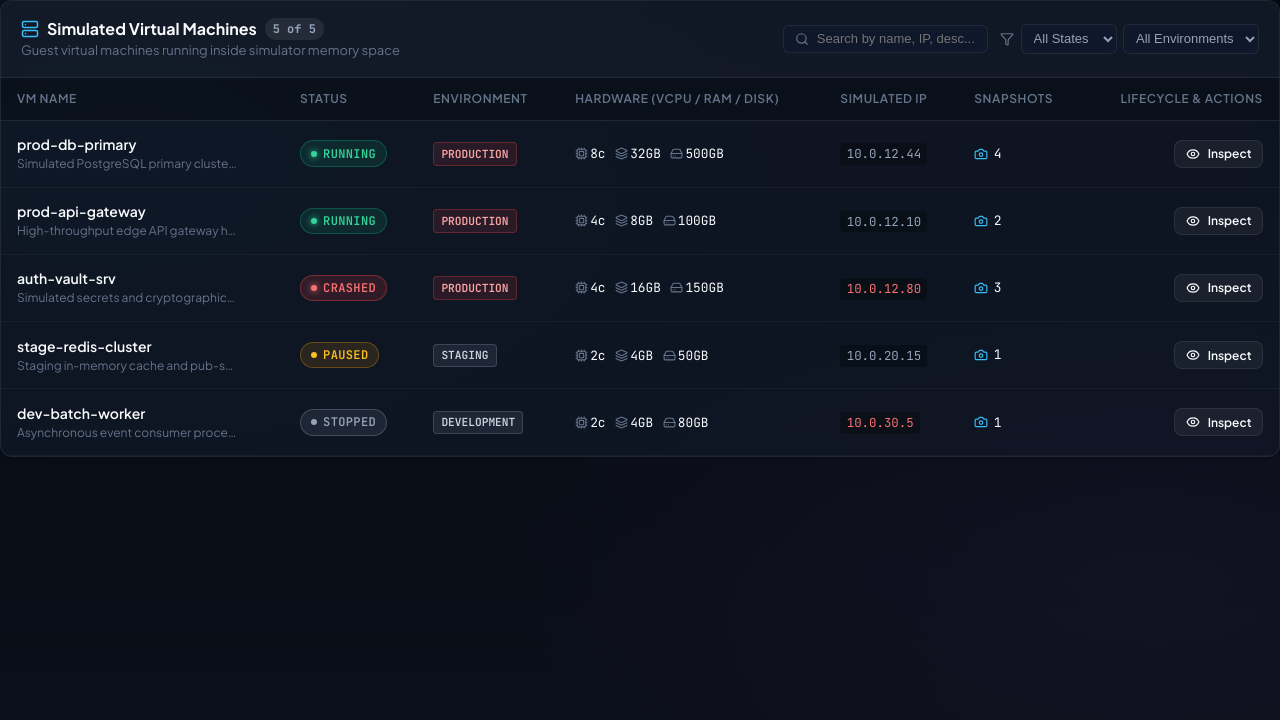
it: VMInventoryTable Component › filters virtual machines by power execution state
Select "Crashed" in the dropdown with test id "vm-state-filter". click: point(1069, 39)
box: [1021,24,1117,54]
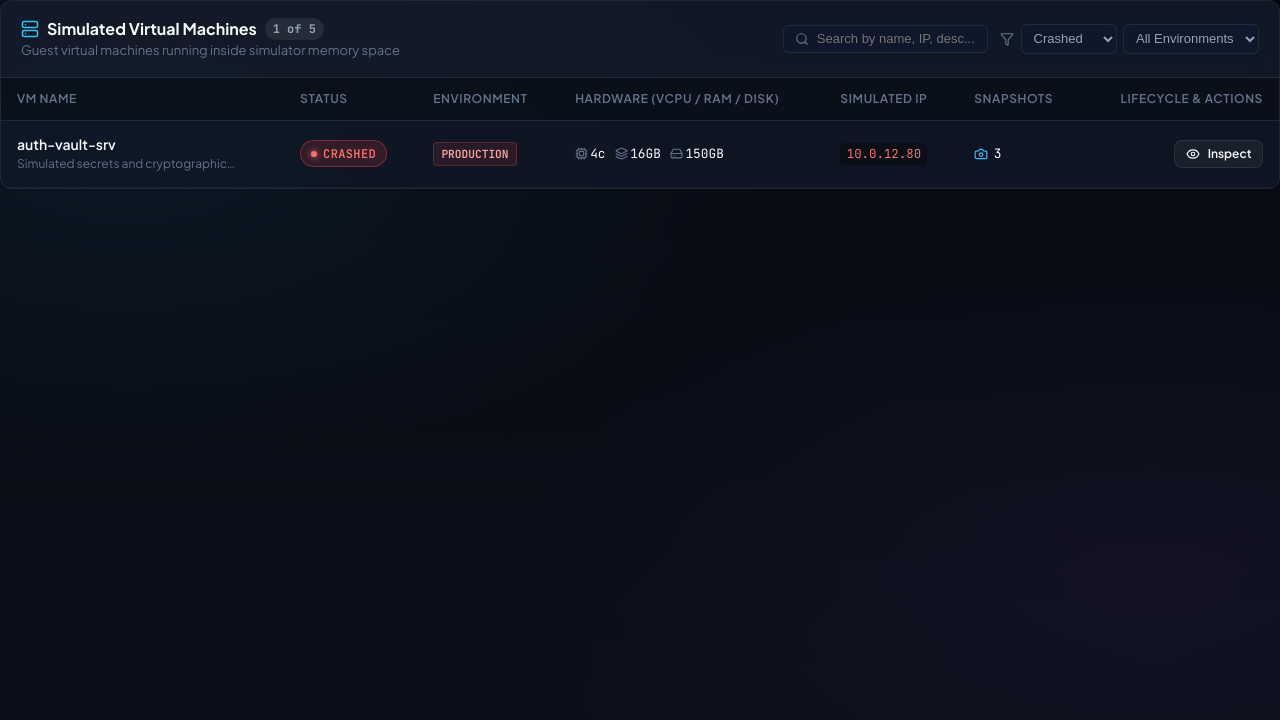
Expected: the text "auth-vault-srv" is shown, [17,135,116,153]
Expected: the text "prod-db-primary" is gone
